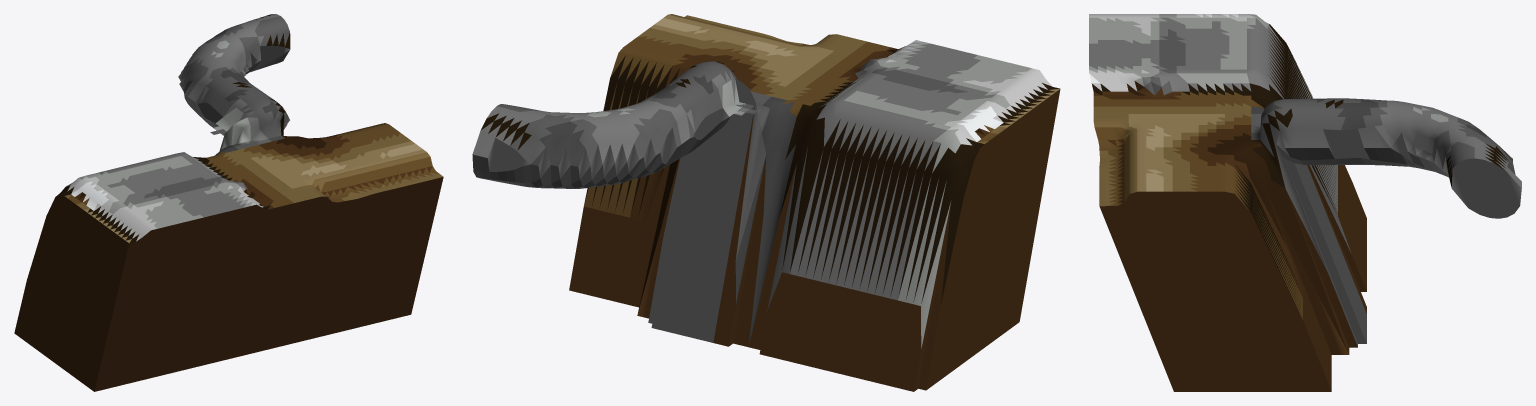
The model's file is skull_chest_t2.glb.
3 renders of one model, left to right at view 1: azimuth 30°, elevation 25°; view 2: azimuth 150°, elevation 25°; view 3: azimuth 270°, elevation 25°, orthographic. The views are drawn at different scales.
Parts seen in each view (by area): view 1: skull_chest_t2; view 2: skull_chest_t2; view 3: skull_chest_t2.
Boxes of the visible parts, bbox=[...] form: skull_chest_t2: bbox=[14, 14, 443, 391]; skull_chest_t2: bbox=[472, 14, 1060, 391]; skull_chest_t2: bbox=[1089, 14, 1521, 391].
Bounding box in the file's own units: 24 × 14.7 × 24.68.
